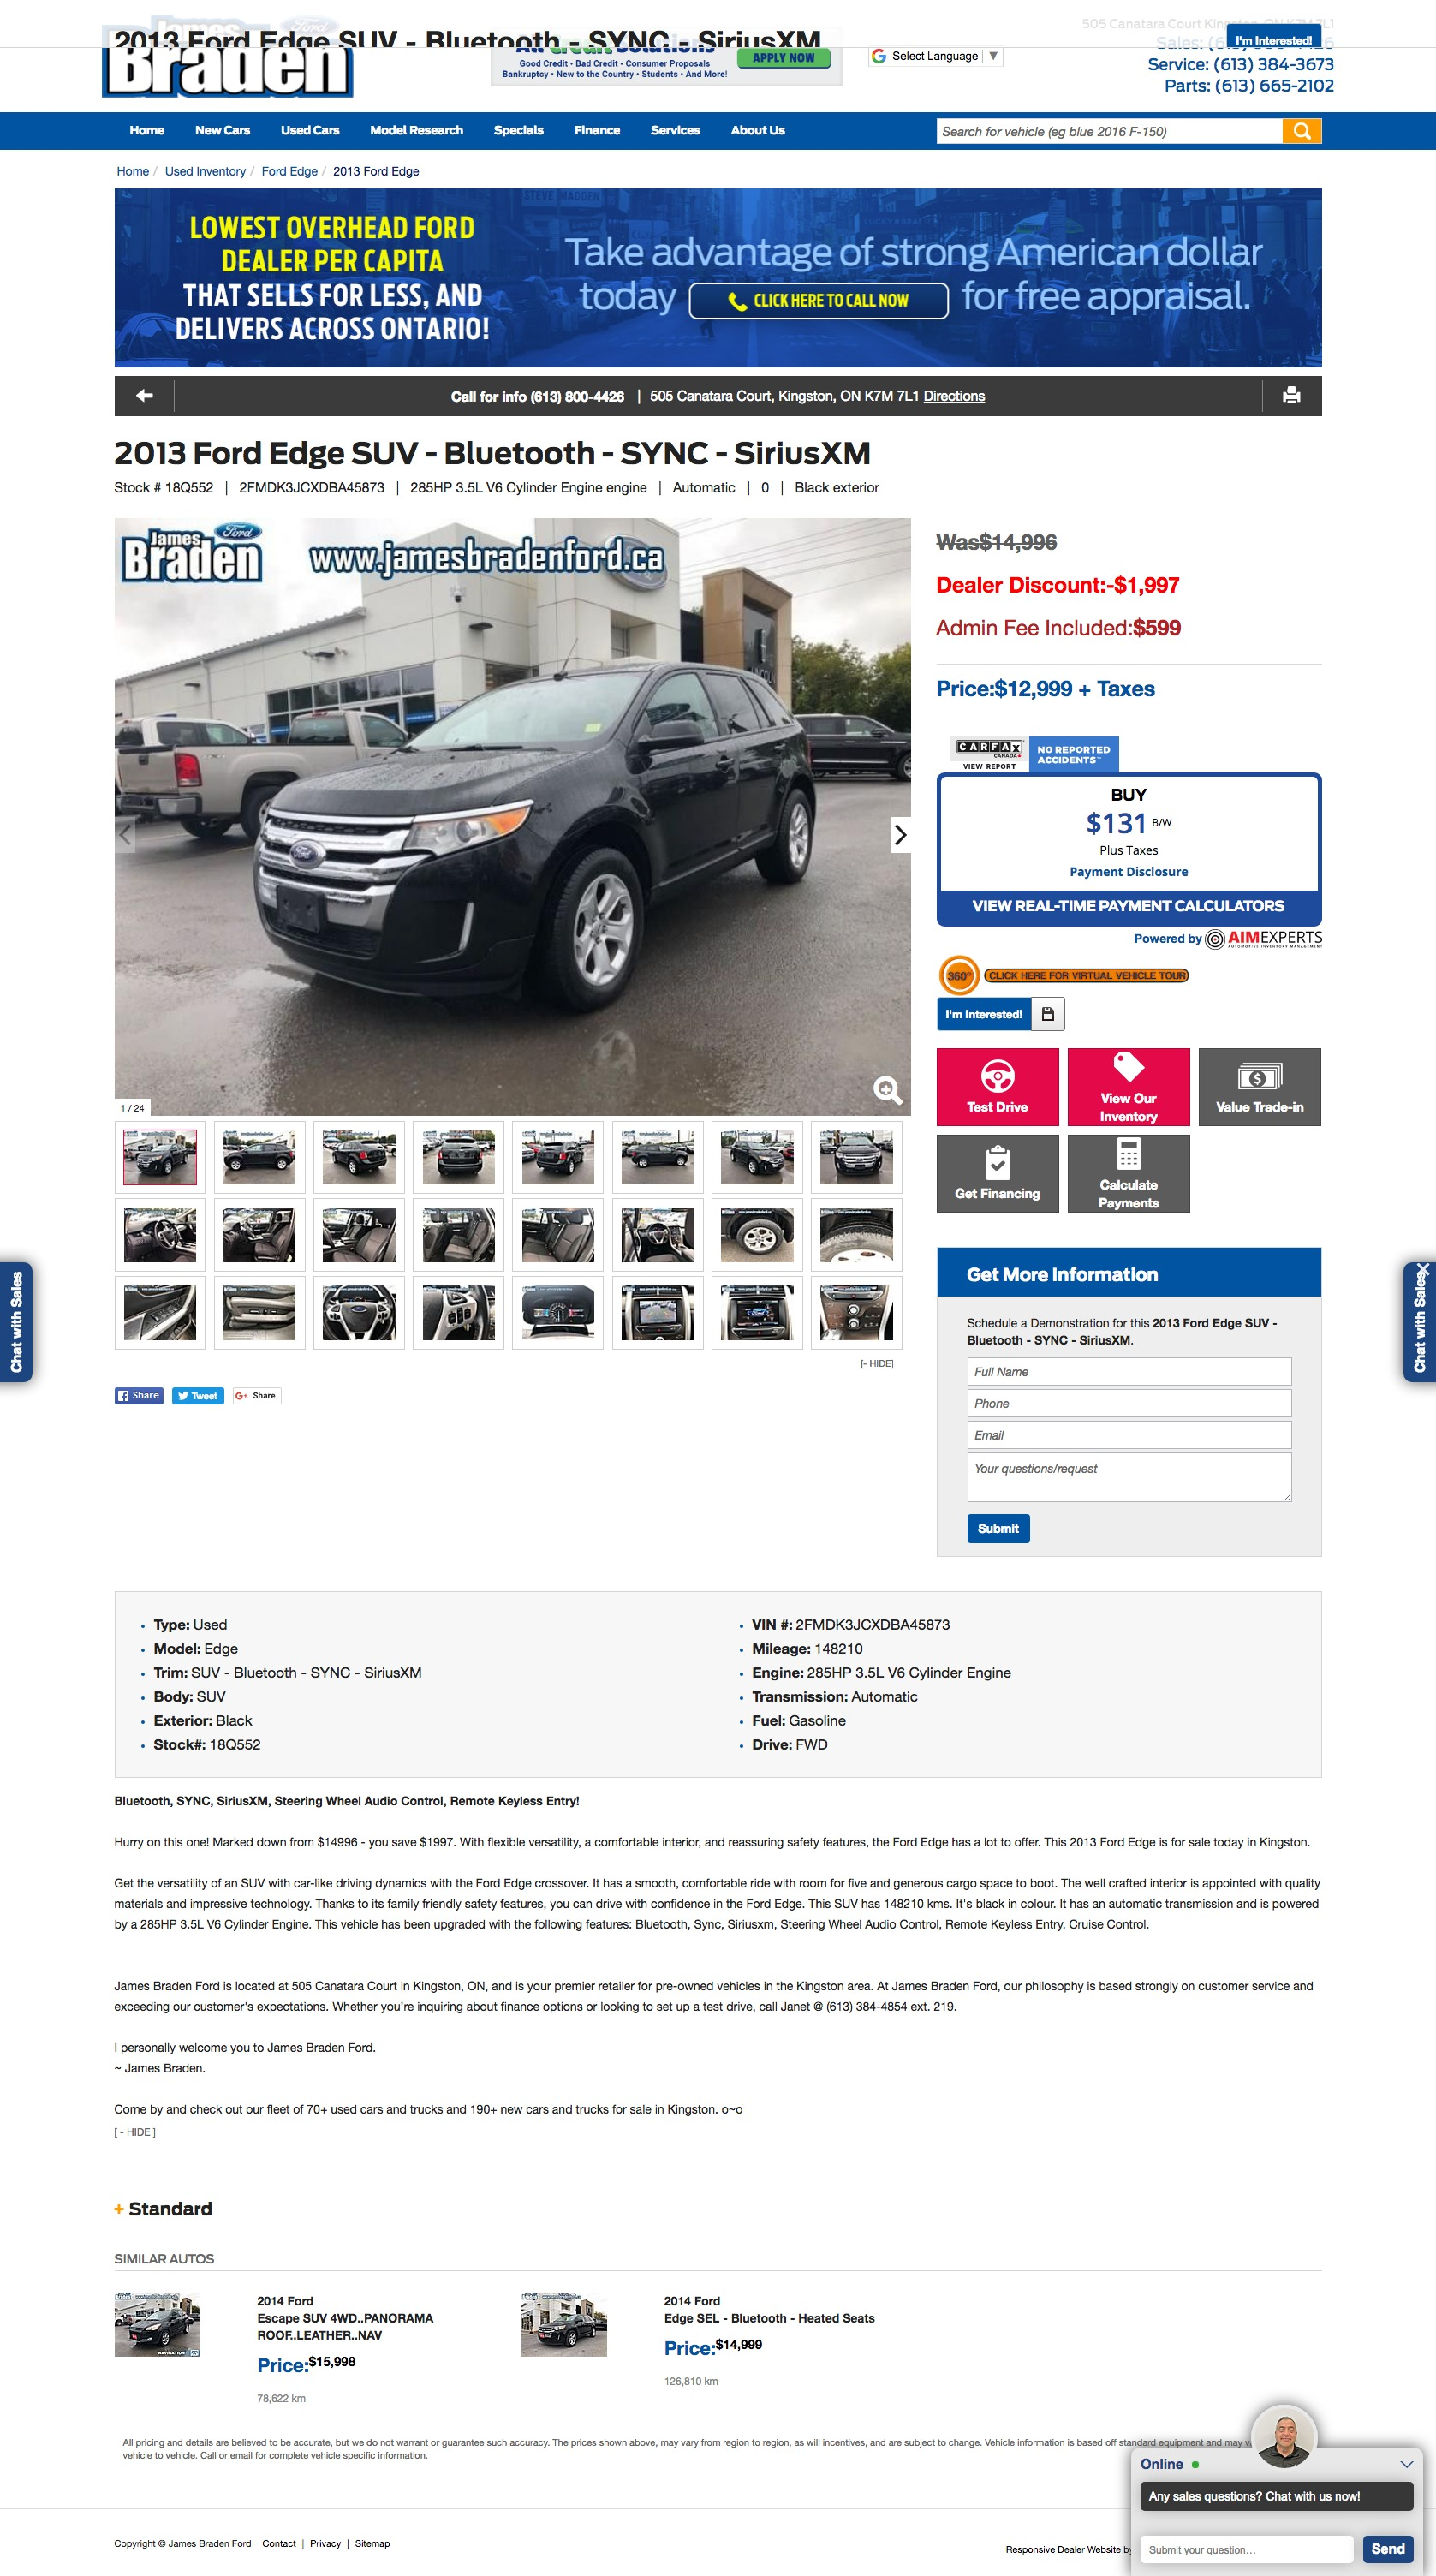car: (895, 824, 909, 847)
